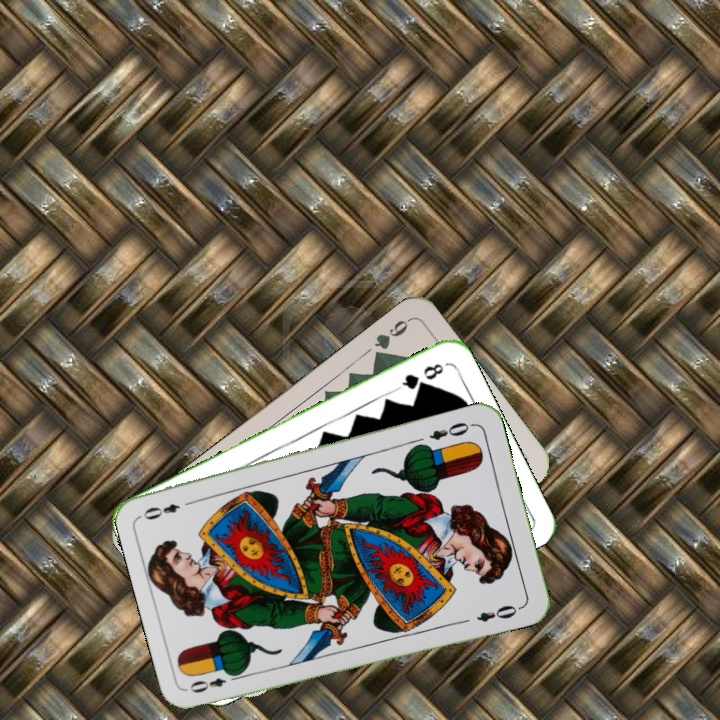EO: (186, 669, 244, 696), (425, 418, 477, 443)
G8: (393, 359, 446, 393)
G9: (369, 314, 413, 363)
